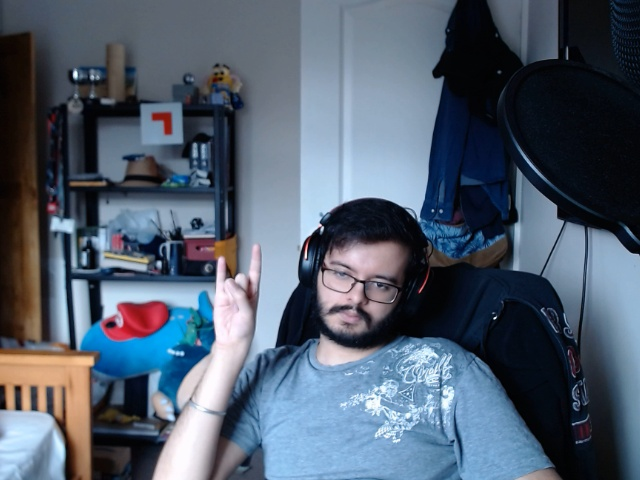Rock on: (205, 236, 266, 356)
